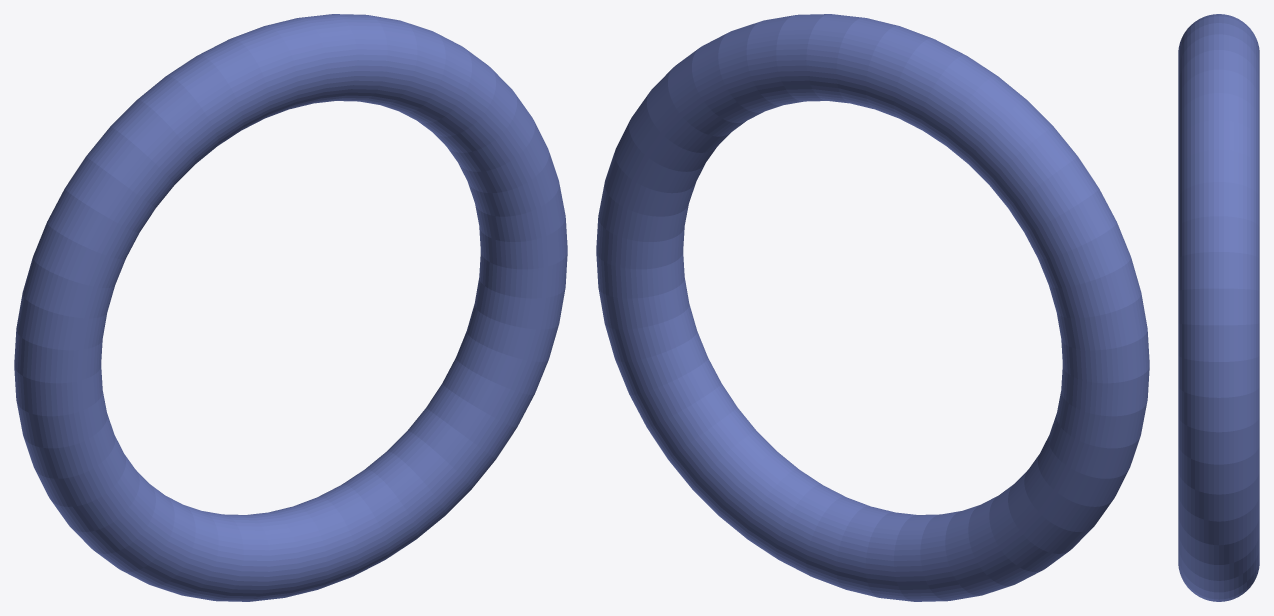
3 renders of one model, left to right at view 1: azimuth 30°, elevation 25°; view 2: azimuth 150°, elevation 25°; view 3: azimuth 270°, elevation 25°, orthographic. The views are drawn at different scales.
Visible parts, largest first — view 1: world; view 2: world; view 3: world.
Boxes of the visible parts, bbox=[...] form: world: bbox=[14, 14, 567, 601]; world: bbox=[596, 14, 1149, 601]; world: bbox=[1178, 14, 1259, 601].
Bounding box in the file's own units: 20.13 × 20.09 × 2.79.
